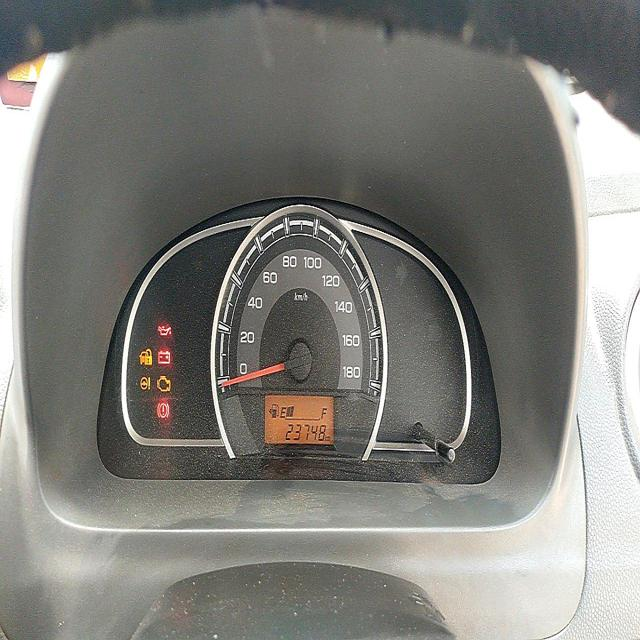odometer: (283, 419, 327, 445)
